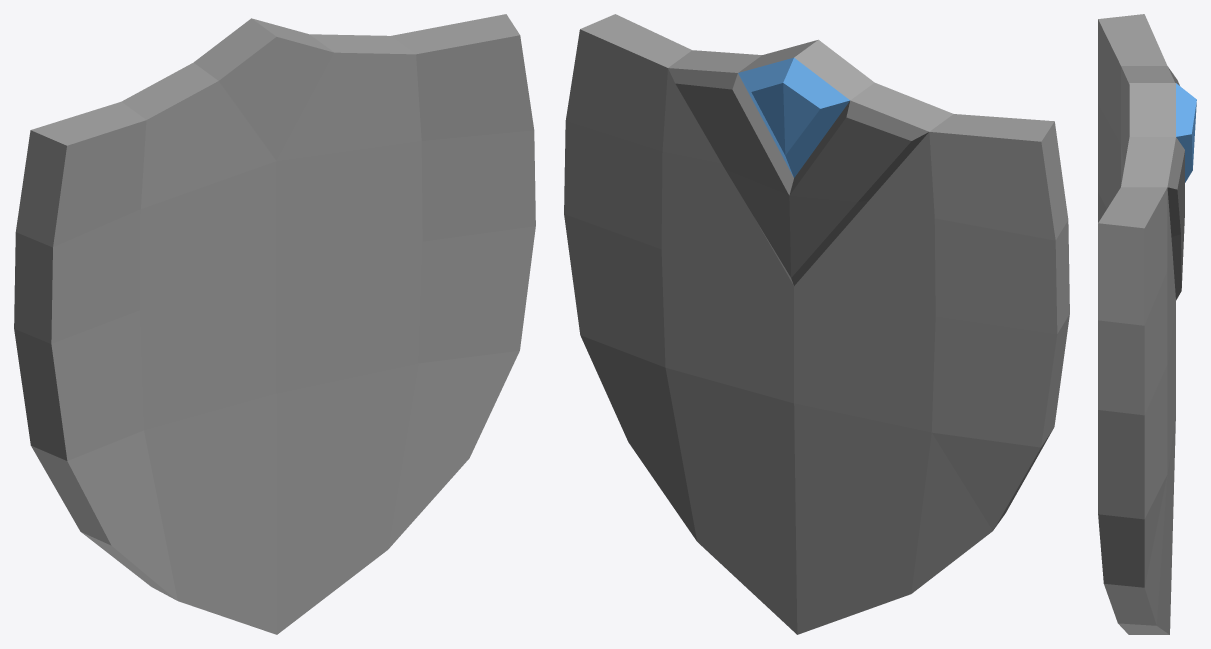
Rendered from Shield.fbx.
The picture shows the model from 3 angles, left to right: view 1: azimuth 30°, elevation 25°; view 2: azimuth 150°, elevation 25°; view 3: azimuth 270°, elevation 25°; orthographic projection. The views are drawn at different scales.
Visible parts, largest first — view 1: Shield 1.001; view 2: Shield 1.001; view 3: Shield 1.001.
Part boxes in pixels (<box>): Shield 1.001: <box>14,14,535,634</box>; Shield 1.001: <box>564,14,1069,634</box>; Shield 1.001: <box>1098,14,1196,634</box>.
Size of the model in its own units: 58.12 by 65.27 by 10.6.
